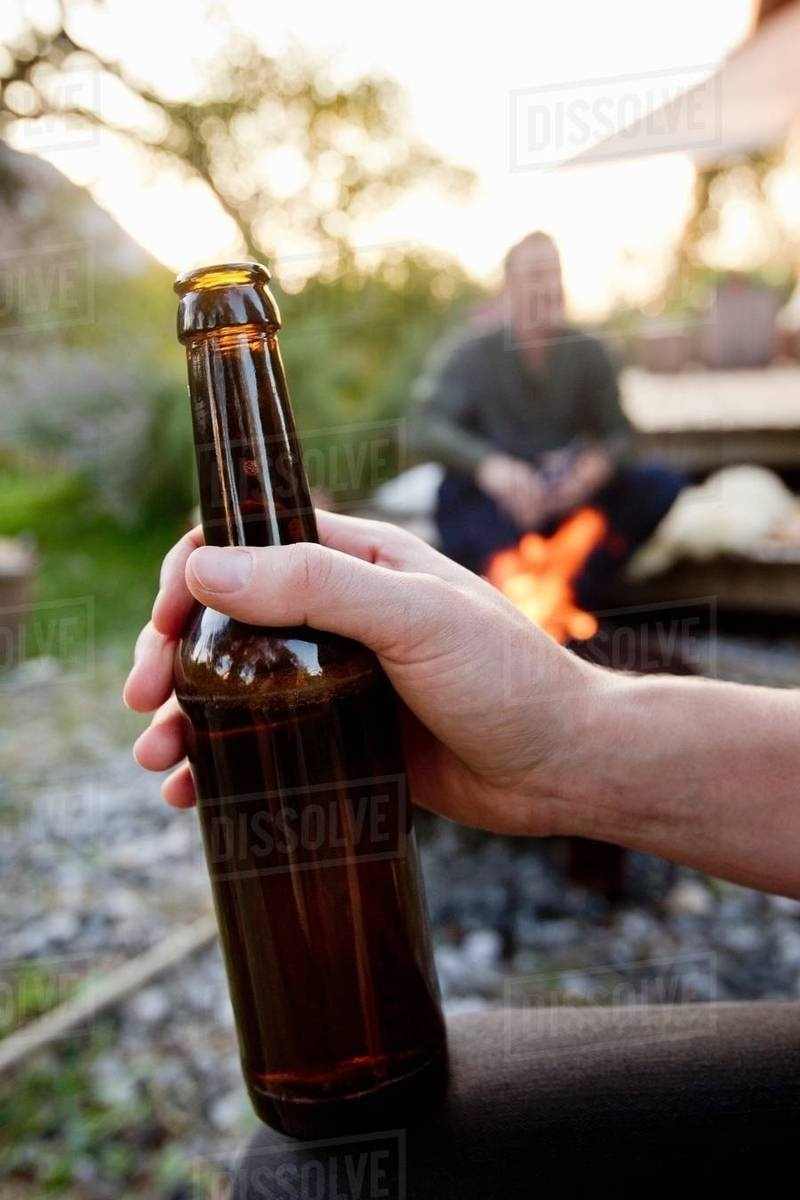beerBottle: (167, 262, 439, 1103)
